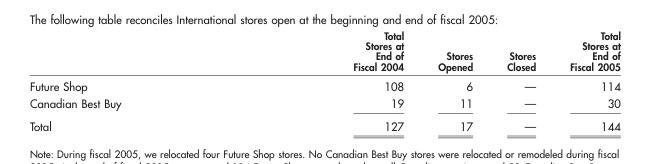table: (28, 29, 619, 133)
table column: (28, 29, 236, 133), (236, 29, 420, 133), (420, 29, 489, 133), (552, 29, 619, 133), (489, 29, 552, 133)
table column header: (28, 29, 619, 75)
table row: (28, 29, 619, 75), (28, 94, 619, 114), (28, 75, 619, 94), (28, 114, 619, 133)
